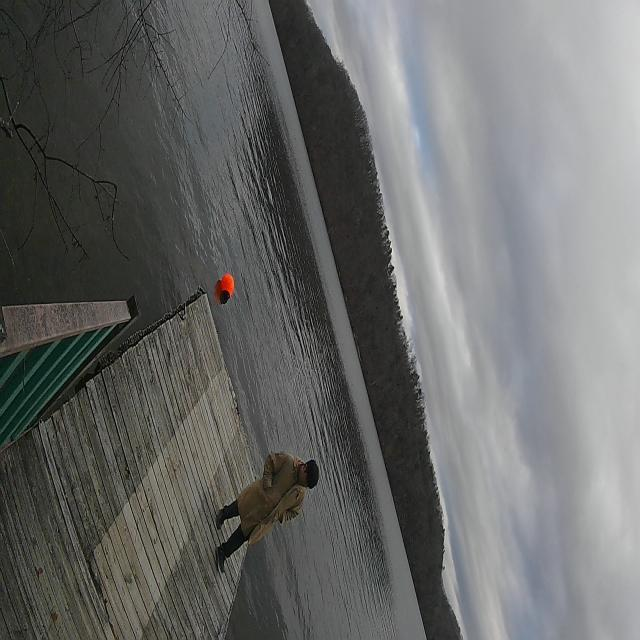Buoy: (216, 264, 237, 316)
